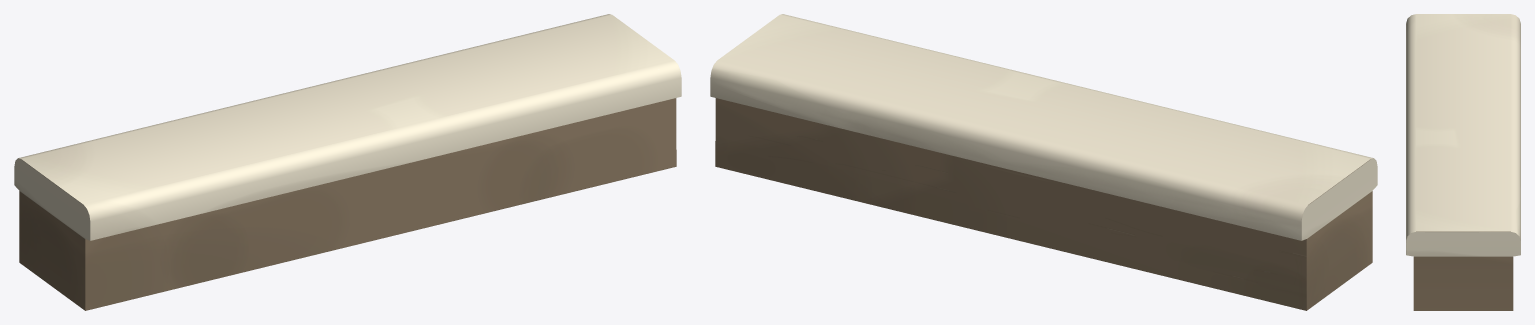
File: Counter_GEO.fbx
3 views of the same model, side by side, from view 1: azimuth 30°, elevation 25°; view 2: azimuth 150°, elevation 25°; view 3: azimuth 270°, elevation 25° (orthographic). The views are drawn at different scales.
Visible parts, largest first — view 1: Counter_GEO; view 2: Counter_GEO; view 3: Counter_GEO.
Boxes of the visible parts, x1,y1,x2,y2 form: Counter_GEO: (14,14,681,310); Counter_GEO: (710,14,1377,310); Counter_GEO: (1406,14,1520,310).
Size of the model in its own units: 709 by 120 by 158.
Materials: 1 (1 with a texture image).
